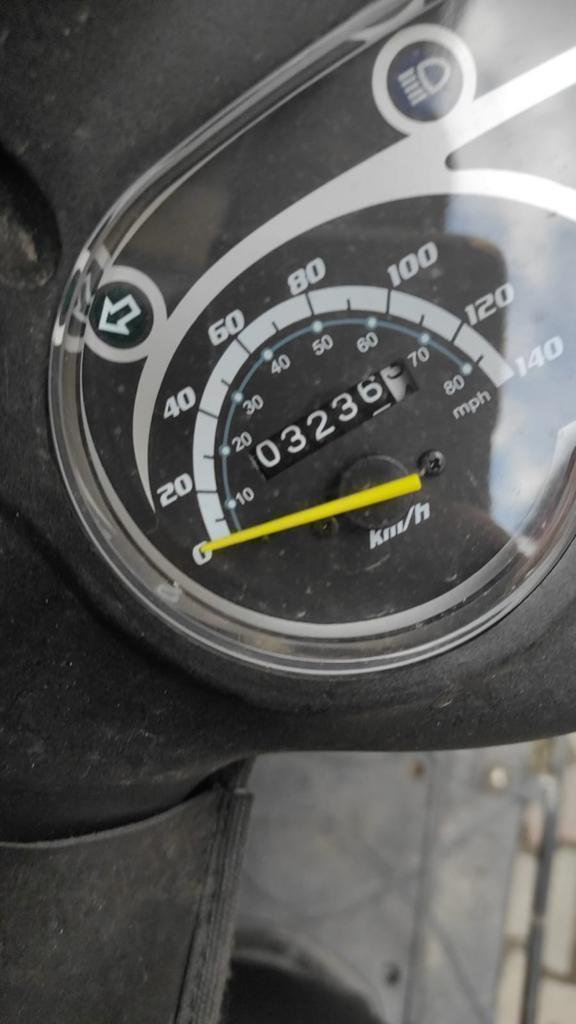0: (255, 439, 281, 467), (276, 354, 292, 370), (251, 393, 264, 409), (241, 431, 253, 446)
2: (305, 410, 335, 442)
3: (328, 390, 359, 424), (279, 424, 308, 454), (378, 356, 404, 382), (241, 400, 255, 414)
4: (270, 358, 282, 375)
6: (354, 375, 385, 402)
7: (406, 350, 419, 368)
odometer: (240, 354, 422, 483)
